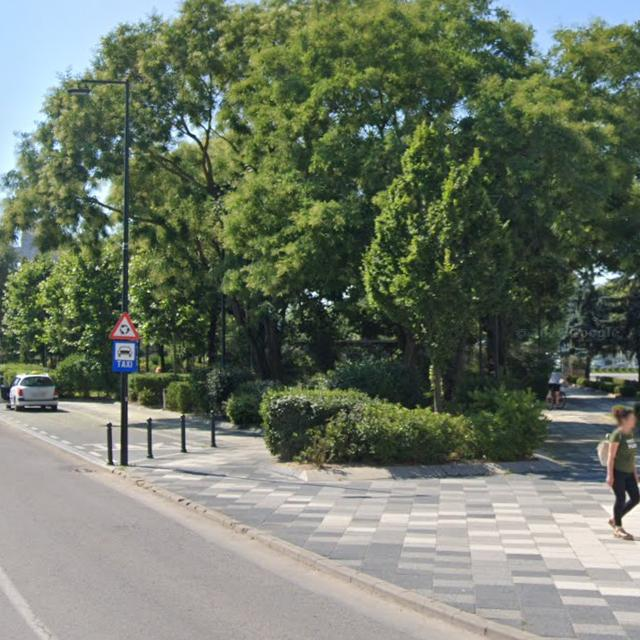info_taxi_parking: (112, 342, 137, 372)
warn_roundabout: (108, 312, 140, 340)
